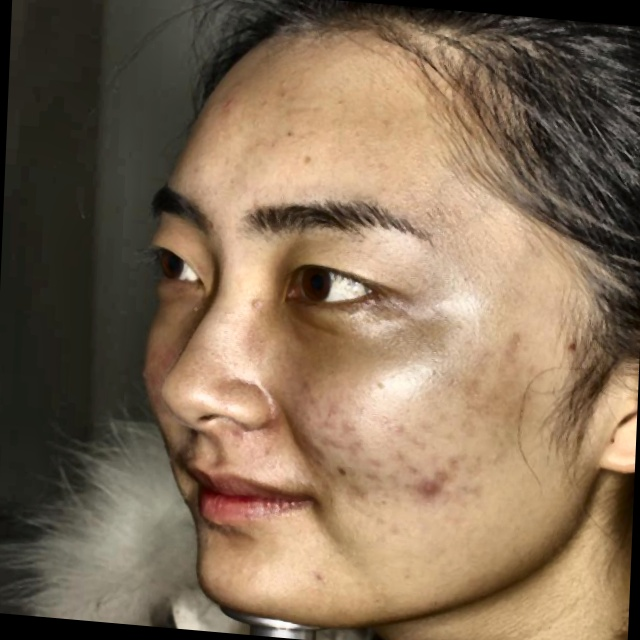comedone: (417, 466, 449, 502)
